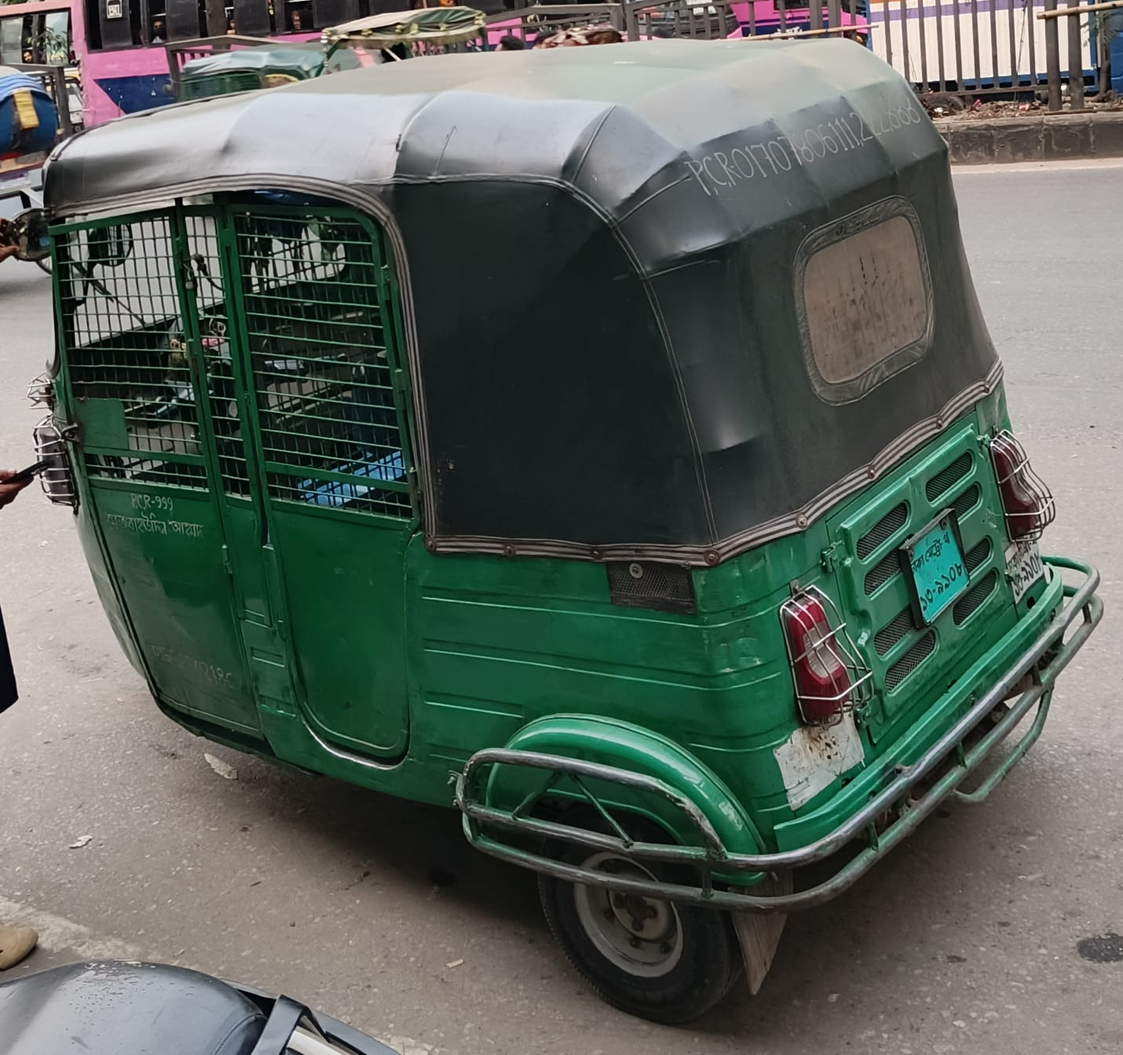Bus: (8, 0, 552, 104)
cng: (35, 28, 1105, 999)
